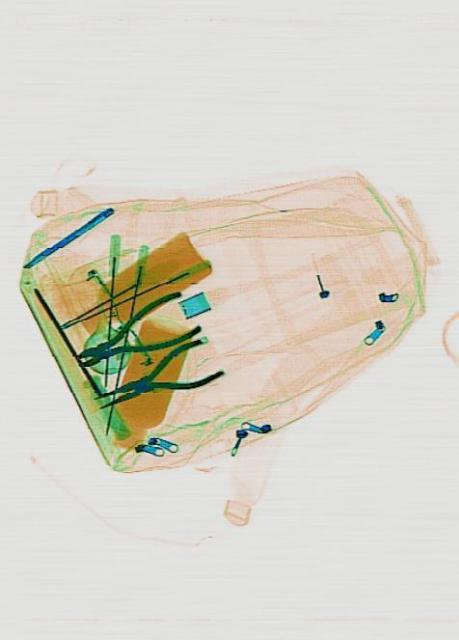Pliers: (69, 282, 200, 382), (90, 330, 223, 426)
